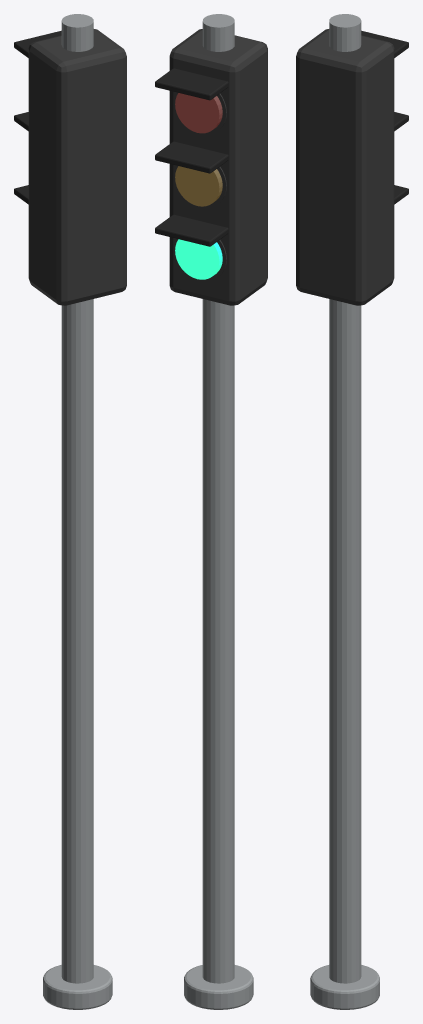
File: traffic_light_green.glb
3 views of the same model, side by side, from view 1: azimuth 30°, elevation 25°; view 2: azimuth 150°, elevation 25°; view 3: azimuth 330°, elevation 25° (orthographic).
Visible parts, largest first — view 1: traffic_light; view 2: traffic_light; view 3: traffic_light.
Boxes of the visible parts, x1=… form: traffic_light: x1=14, y1=14, x2=126, y2=1009; traffic_light: x1=155, y1=14, x2=267, y2=1009; traffic_light: x1=296, y1=14, x2=408, y2=1009.
Size of the model in its own units: 0.3 by 4 by 0.4.
